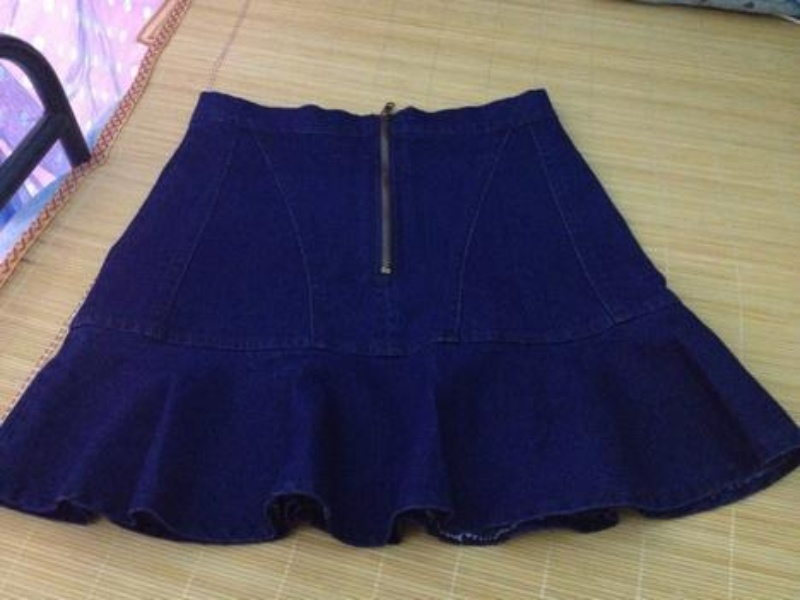skirt: (2, 87, 798, 554)
